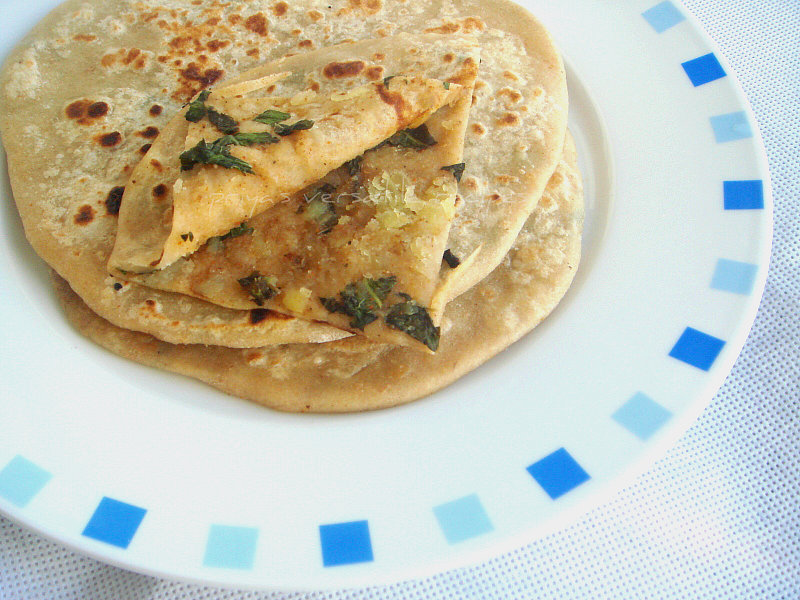aloo_paratha: (1, 1, 585, 414)
